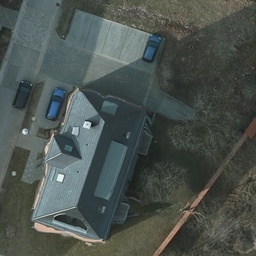car: (140, 33, 158, 64), (47, 90, 63, 119), (14, 80, 28, 110)
